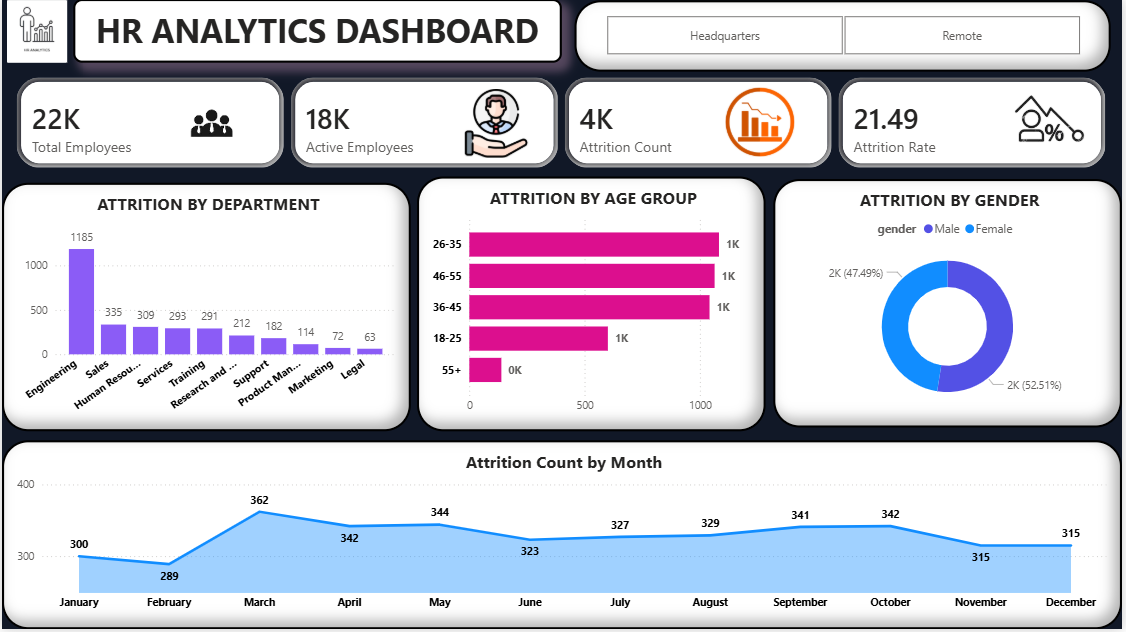

This screenshot's page, from the dashboard's own definition file:
{"tool":"powerbi","page":{"name":"ATTRITION ANALYSIS","canvas":[1280,720],"ordinal":1},"visuals":[{"type":"textbox","box":[81.2,0,558.8,72.5],"z":0},{"type":"image","box":[5,1.2,68.8,71.2],"z":1000},{"type":"cardVisual","fields":{"Data":["Shoping_table_std.Total Employees","Shoping_table_std.Active Employees","Shoping_table_std.Attrition Count","Shoping_table_std.Attrition Rate"]},"box":[0,72.5,1280,137.5],"z":2000},{"type":"image","box":[152.5,93.8,173.8,95],"z":3000},{"type":"image","box":[500,102.5,130,78.8],"z":4000},{"type":"image","box":[801.2,101.2,130,78.8],"z":5000},{"type":"image","box":[1113.8,66.2,166.2,151.2],"z":6000},{"type":"columnChart","title":"ATTRITION BY DEPARTMENT","fields":{"Category":["Shoping_table_std.department"],"Y":["Shoping_table_std.Attrition Count"]},"box":[0,210,467.1,284.3],"z":7000},{"type":"barChart","title":"ATTRITION BY AGE GROUP","fields":{"Category":["Shoping_table_std.Age Groups"],"Y":["Shoping_table_std.Attrition Count"]},"box":[474.3,202.9,398.6,291.4],"z":8000},{"type":"donutChart","title":"ATTRITION BY GENDER","fields":{"Category":["Shoping_table_std.gender"],"Y":["Shoping_table_std.Attrition Count"]},"box":[881.4,205.7,398.6,284.3],"z":9000},{"type":"slicer","fields":{"Values":["Shoping_table_std.location"]},"box":[654.3,1.4,612.9,81.4],"z":10000},{"type":"areaChart","fields":{"Category":["Shoping_table_std.hire_date.Variation.Date Hierarchy.Month"],"Y":["Shoping_table_std.Attrition Count"]},"box":[0,504.3,1280,215.7],"z":11000}]}

Visuals, with their boxes in screenshot pixels (x1, y1, x2, y2), scaled from the page's 1280x720 canvas onto the 1126x632 screenshot:
textbox: x1=71 y1=0 x2=563 y2=64
image: x1=4 y1=1 x2=65 y2=64
cardVisual - Shoping_table_std.Total Employees x Shoping_table_std.Active Employees: x1=0 y1=64 x2=1125 y2=184
image: x1=134 y1=82 x2=287 y2=166
image: x1=440 y1=90 x2=554 y2=159
image: x1=705 y1=89 x2=819 y2=158
image: x1=980 y1=58 x2=1125 y2=191
"ATTRITION BY DEPARTMENT" columnChart: x1=0 y1=184 x2=411 y2=434
"ATTRITION BY AGE GROUP" barChart: x1=417 y1=178 x2=768 y2=434
"ATTRITION BY GENDER" donutChart: x1=775 y1=181 x2=1125 y2=430
slicer - Shoping_table_std.location: x1=576 y1=1 x2=1115 y2=73
areaChart - Shoping_table_std.hire_date.Variation.Date Hierarchy.Month x Shoping_table_std.Attrition Count: x1=0 y1=443 x2=1125 y2=631
